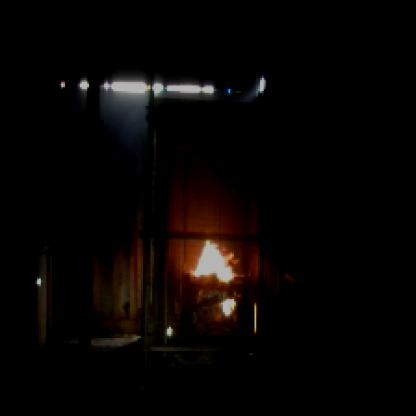Fire: (177, 226, 245, 316)
